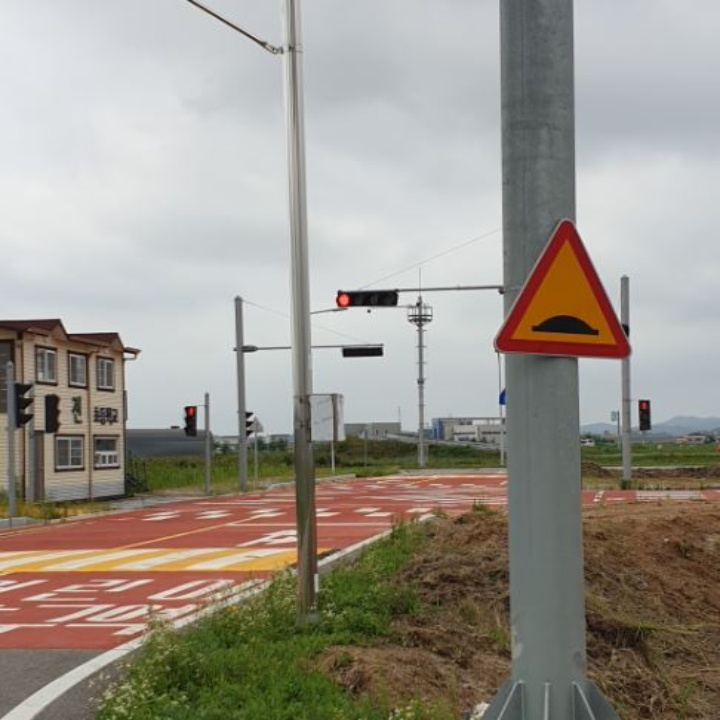bump: (495, 219, 635, 362)
